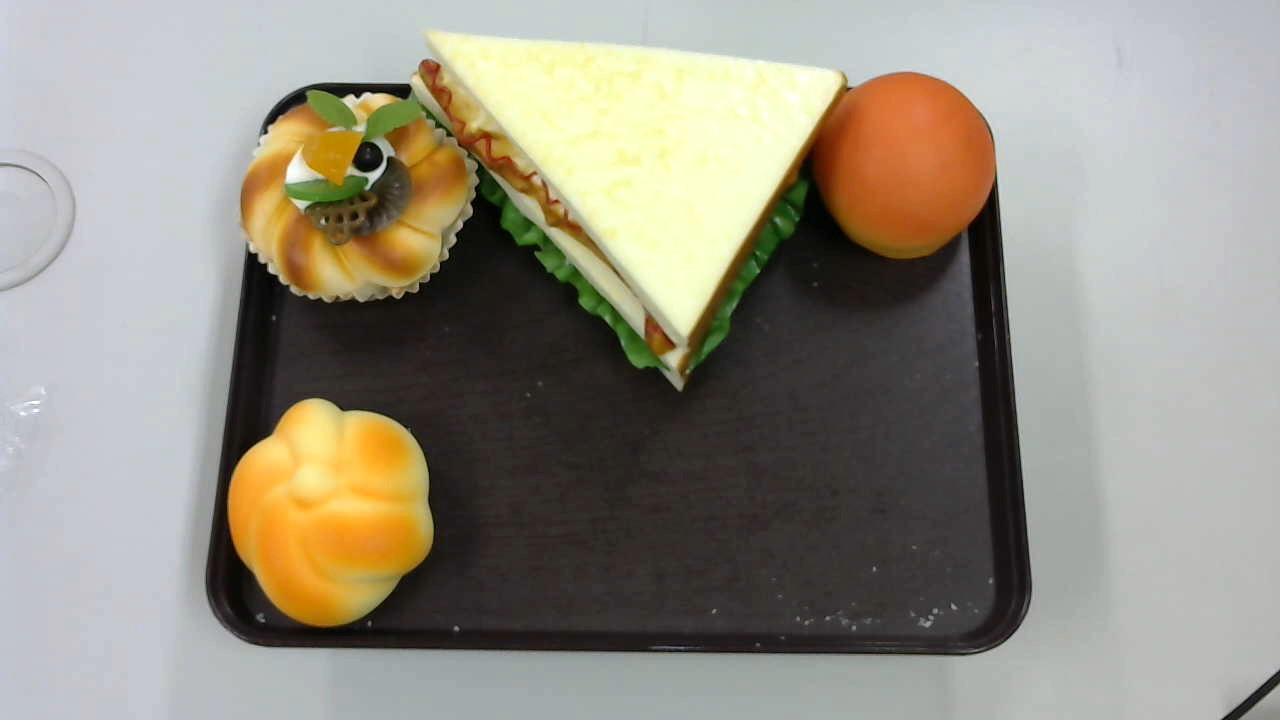bun: (813, 73, 995, 263)
fruit tart: (239, 89, 480, 304)
sandwich: (408, 29, 846, 392)
twist bread: (227, 399, 436, 629)
